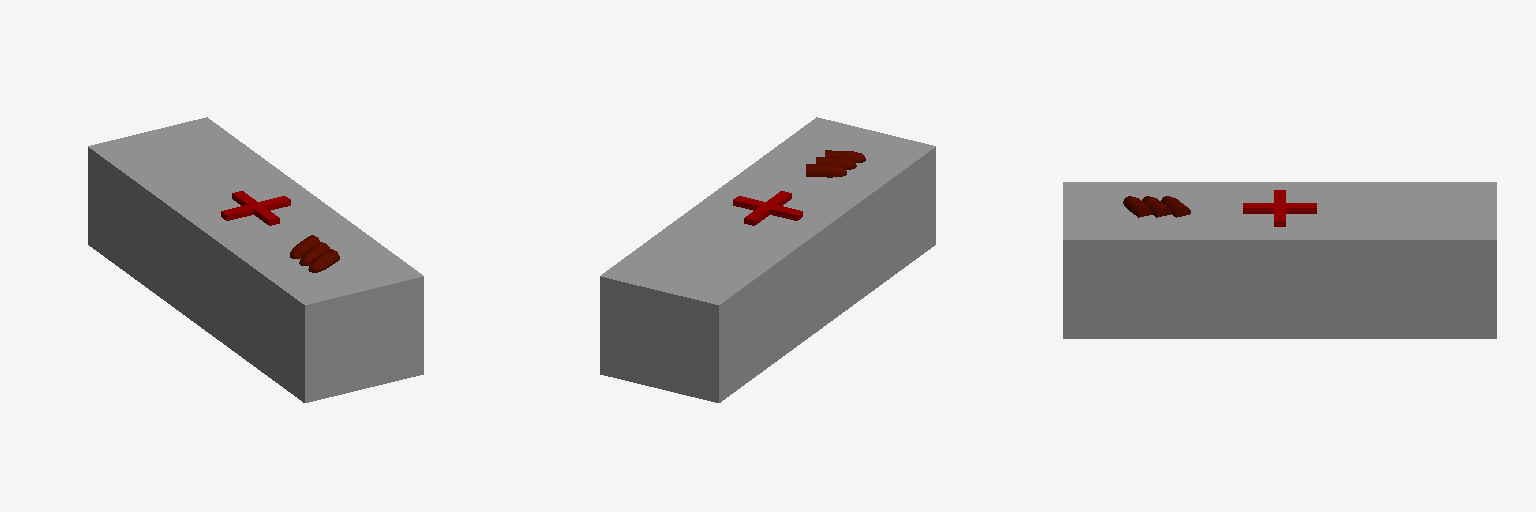
Rendered from help.obj.
3 renders of one model, left to right at view 1: azimuth 30°, elevation 25°; view 2: azimuth 150°, elevation 25°; view 3: azimuth 270°, elevation 25°, orthographic.
Visible parts, largest first — view 1: 立方体, 立方体.001, 1; view 2: 立方体, 立方体.001, 1; view 3: 立方体, 立方体.001, 1.
Part boxes in pixels (bbox=[...]): 立方体: bbox=[88, 117, 423, 402]; 立方体.001: bbox=[221, 191, 290, 225]; 1: bbox=[290, 235, 339, 272]; 立方体: bbox=[600, 117, 935, 402]; 立方体.001: bbox=[733, 191, 802, 225]; 1: bbox=[806, 150, 865, 177]; 立方体: bbox=[1063, 182, 1496, 338]; 立方体.001: bbox=[1243, 190, 1316, 226]; 1: bbox=[1123, 196, 1190, 217].
Size of the model in its own units: 2 by 1.71 by 6.29.